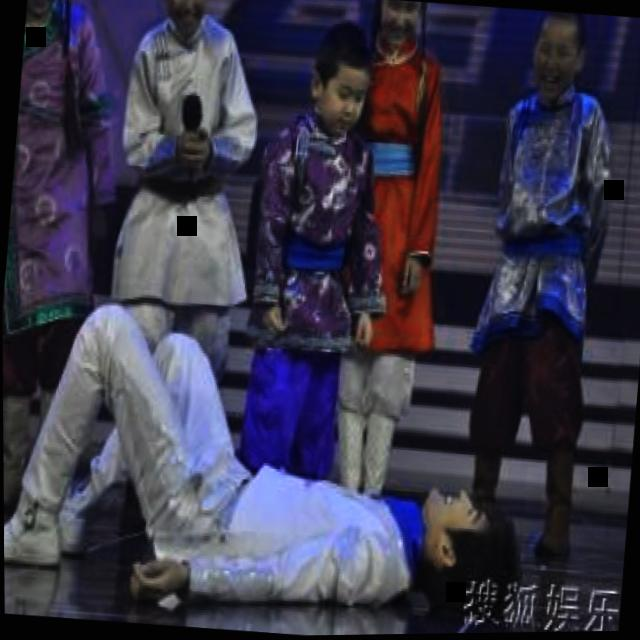Fall-Detected: (2, 291, 543, 640)
